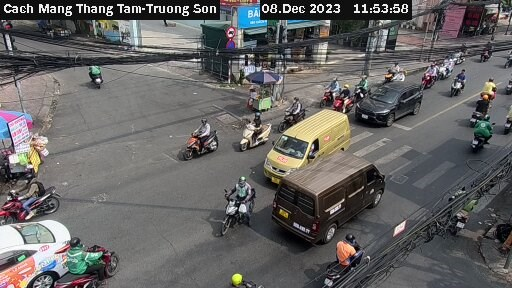car: (277, 148, 383, 239), (266, 107, 347, 178), (361, 78, 423, 130)
motorbike: (209, 179, 261, 231), (3, 176, 63, 221), (322, 239, 368, 283), (178, 121, 220, 161), (236, 115, 274, 149), (468, 116, 498, 157), (80, 60, 112, 87), (468, 92, 493, 125), (444, 70, 470, 99), (473, 75, 499, 103), (414, 63, 439, 89), (332, 87, 356, 112), (277, 98, 302, 122), (316, 79, 341, 102)
